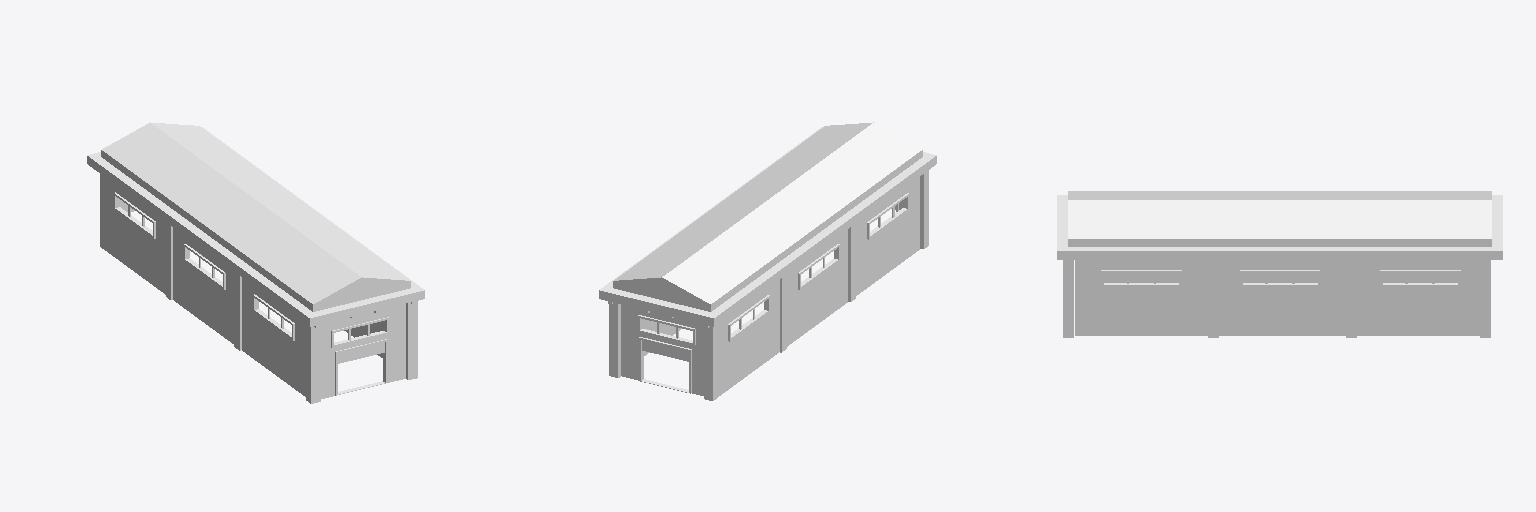
The model's file is ind6_hall3_lod.obj.
3 views of the same model, side by side, from view 1: azimuth 30°, elevation 25°; view 2: azimuth 150°, elevation 25°; view 3: azimuth 270°, elevation 25° (orthographic).
Parts seen in each view (by area): view 1: Mesh; view 2: Mesh; view 3: Mesh.
Part boxes in pixels (x1,y1,x2,y2): Mesh: (87,122,424,403); Mesh: (599,122,936,400); Mesh: (1057,191,1502,337).
Bounding box in the file's own units: 12.28 × 11.41 × 41.1.